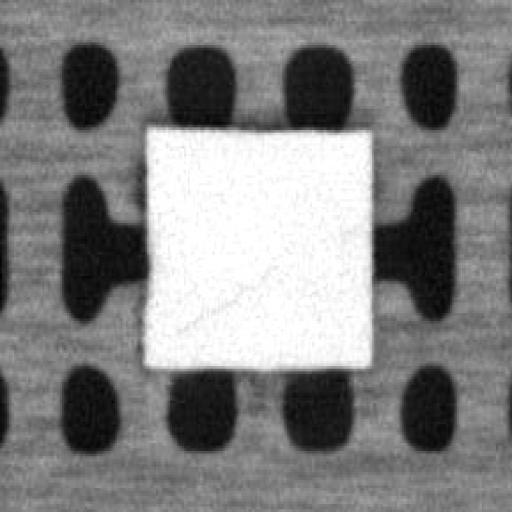DIE_CRACK: (182, 254, 280, 324)
